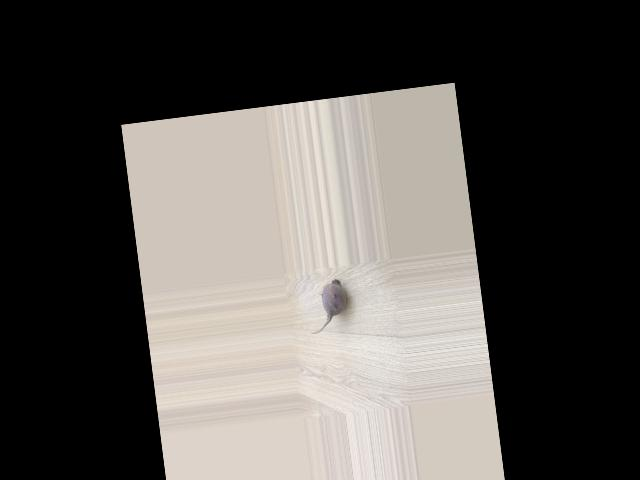beet: (305, 279, 350, 335)
